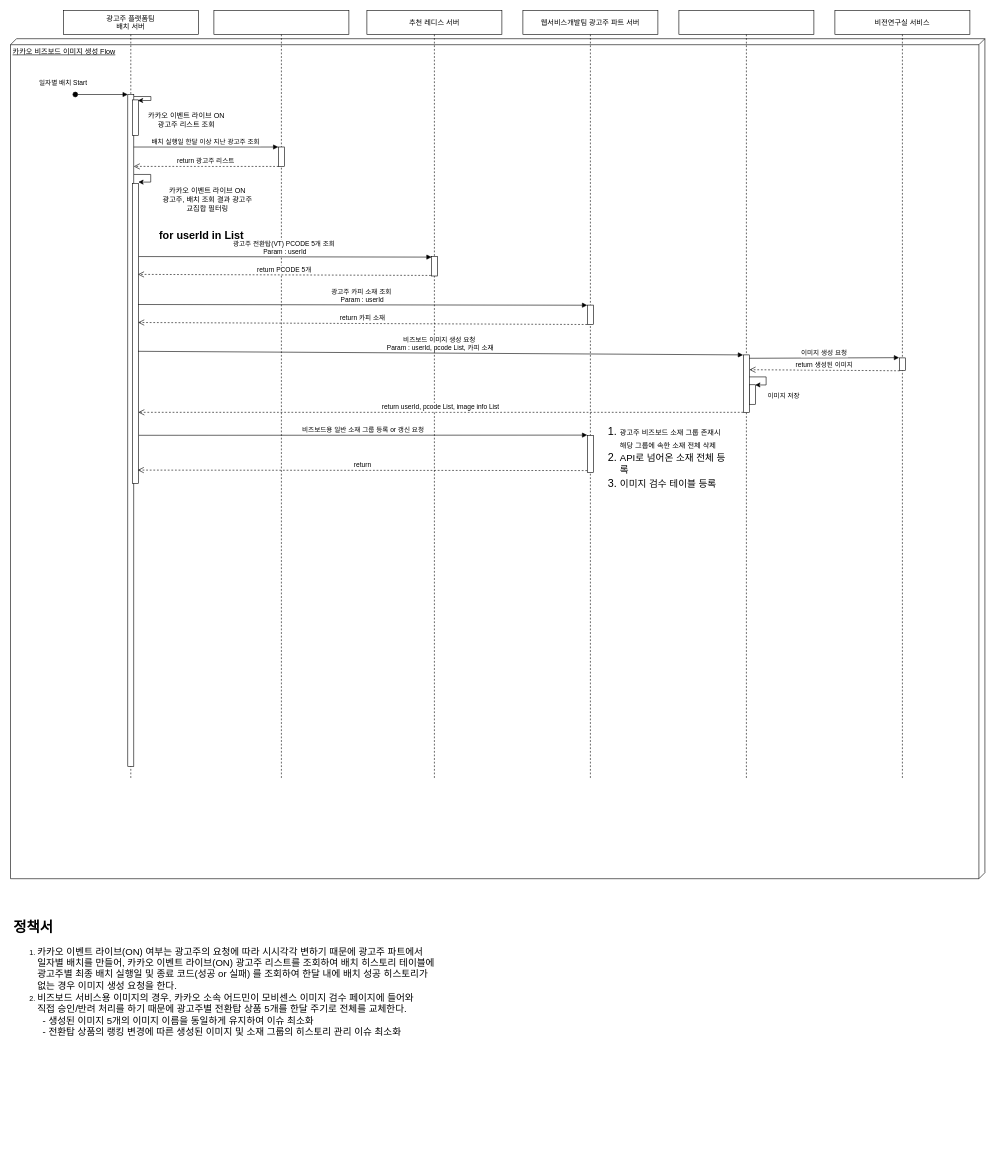
The diagram is 995 pixels wide and 1166 high, and some of its shapes have lost their labels. Here are the shapes that lost their labels. From the top down, the box of each, then its label:
(213, 10, 349, 778): 배치 DB
(678, 10, 814, 778): 연구분석실 서버
